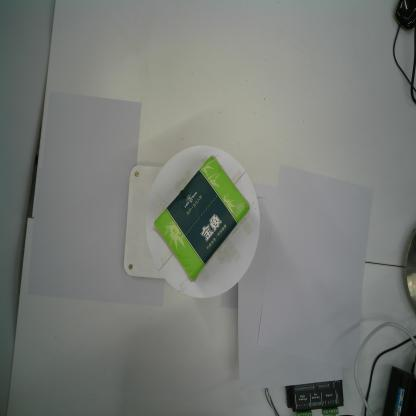Tissue: (154, 155, 251, 282)
